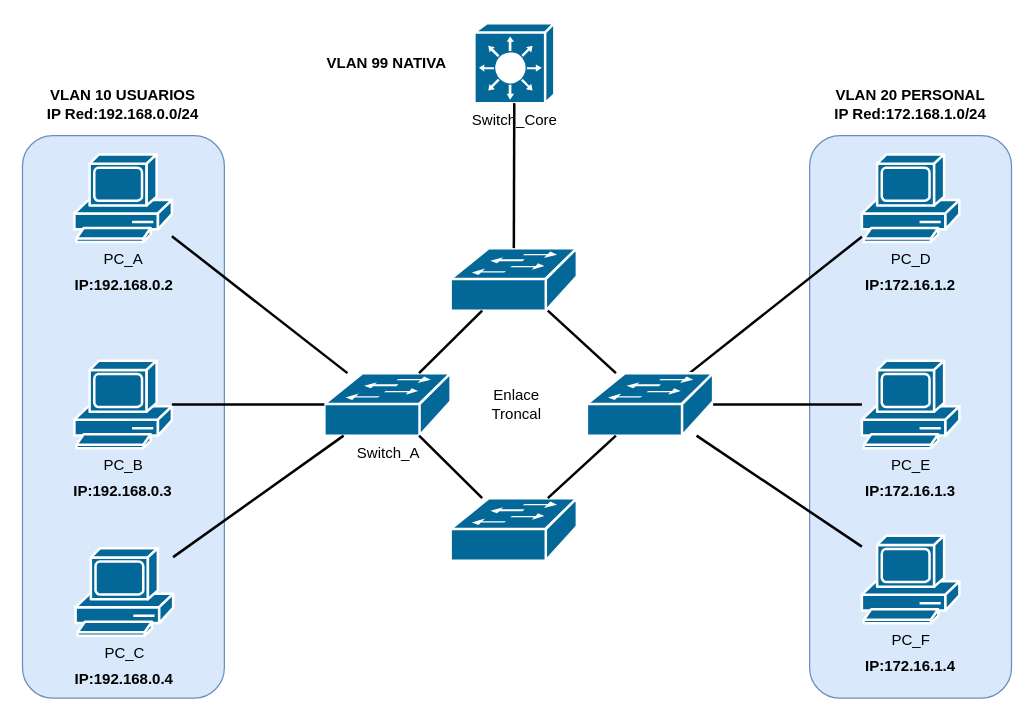
This 1034x720 diagram has some shape labels left out. Here are the shapes that lost their labels. From the top down, the box of each, then its label:
(449, 246, 578, 311): Switch_C
(585, 371, 714, 436): Switch_D
(449, 496, 578, 561): Switch_B
